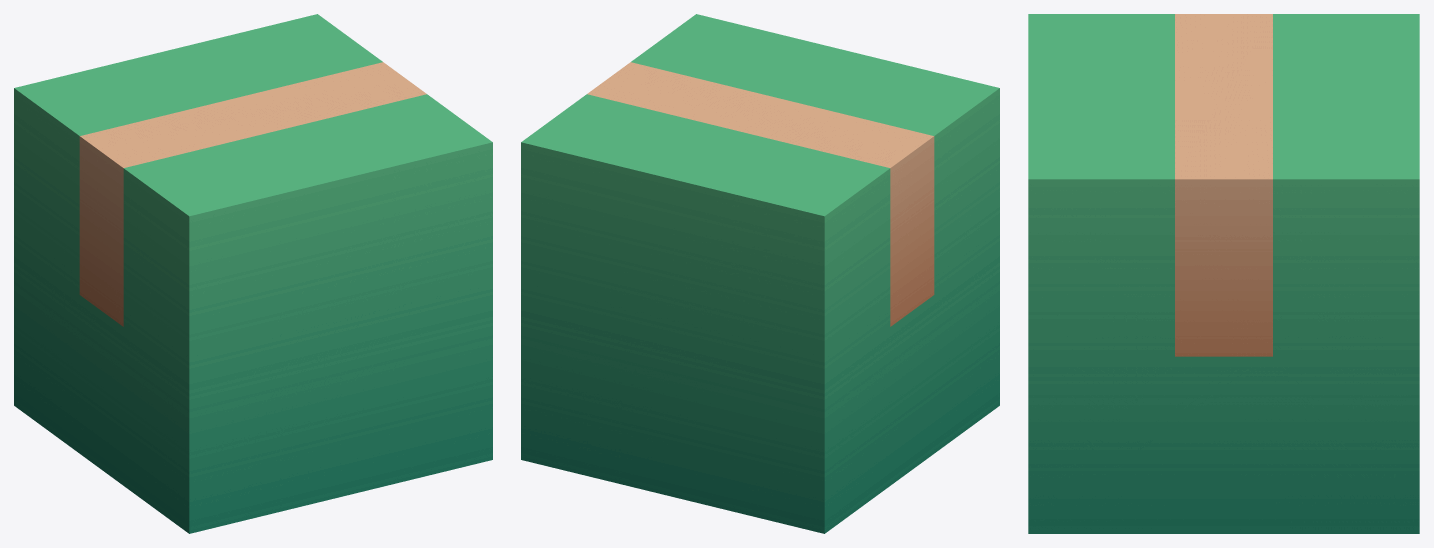
The model's file is Green.glb.
The picture shows the model from 3 angles, left to right: view 1: azimuth 30°, elevation 25°; view 2: azimuth 150°, elevation 25°; view 3: azimuth 270°, elevation 25°; orthographic projection. The views are drawn at different scales.
Parts seen in each view (by area): view 1: box-small; view 2: box-small; view 3: box-small.
Part boxes in pixels (x1=…): box-small: x1=14, y1=14, x2=492, y2=533; box-small: x1=521, y1=14, x2=999, y2=533; box-small: x1=1028, y1=14, x2=1419, y2=533.
Size of the model in its own units: 0.5 by 0.5 by 0.5.
Materials: 1 (1 with a texture image).
